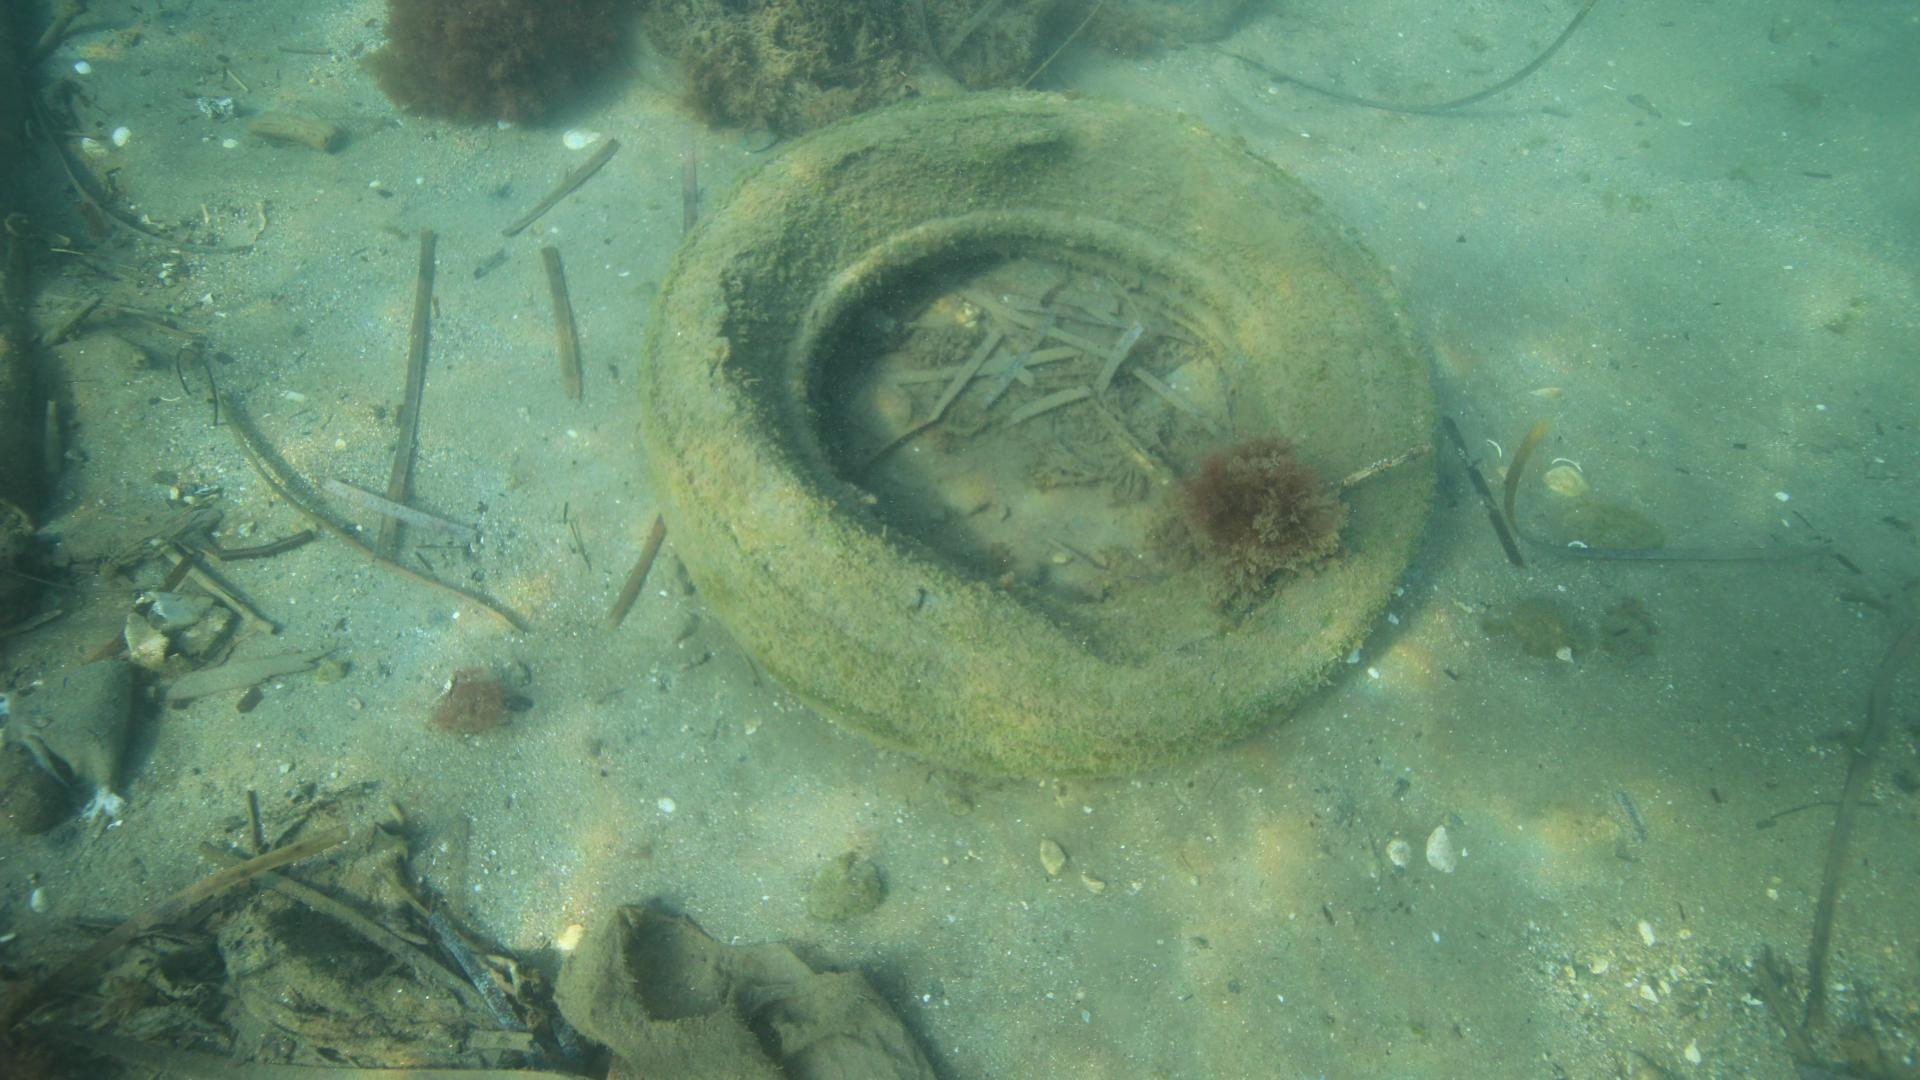tire: (640, 90, 1437, 779)
